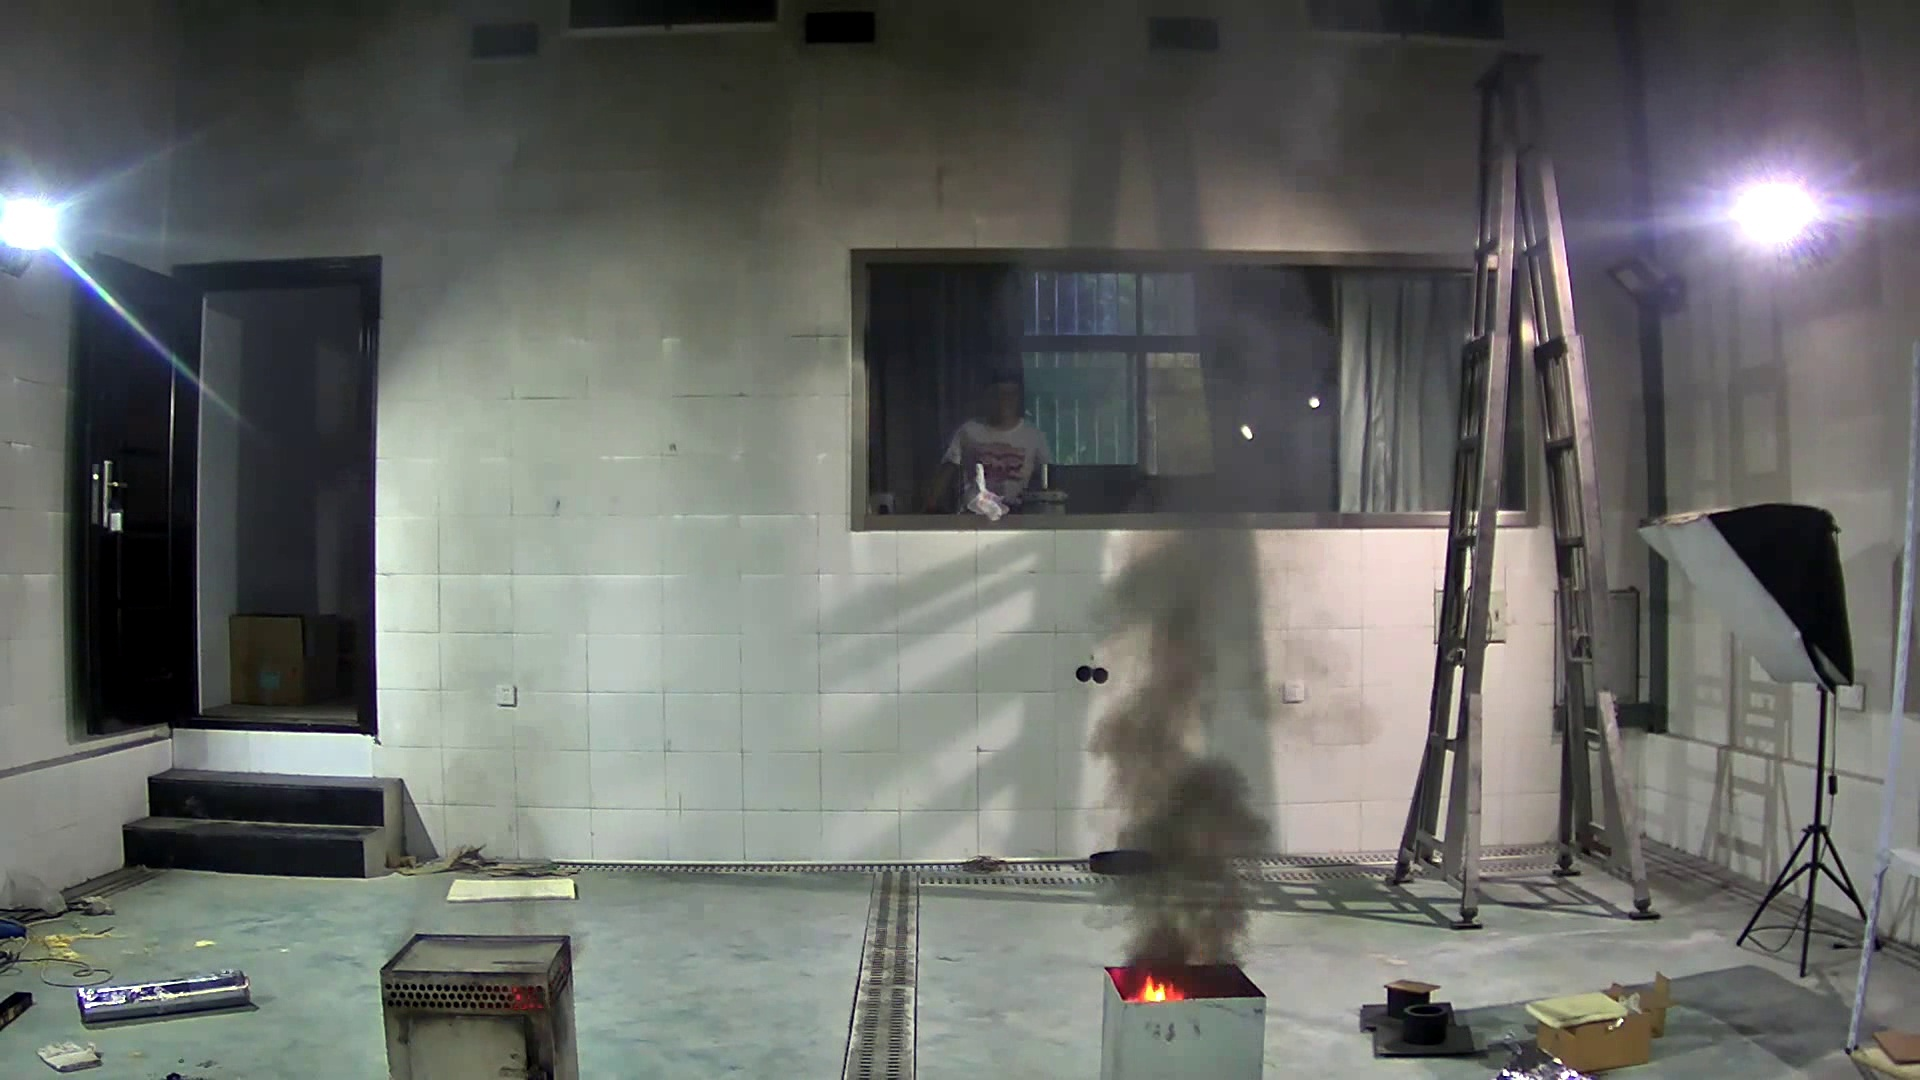smoke: (1091, 501, 1298, 967)
